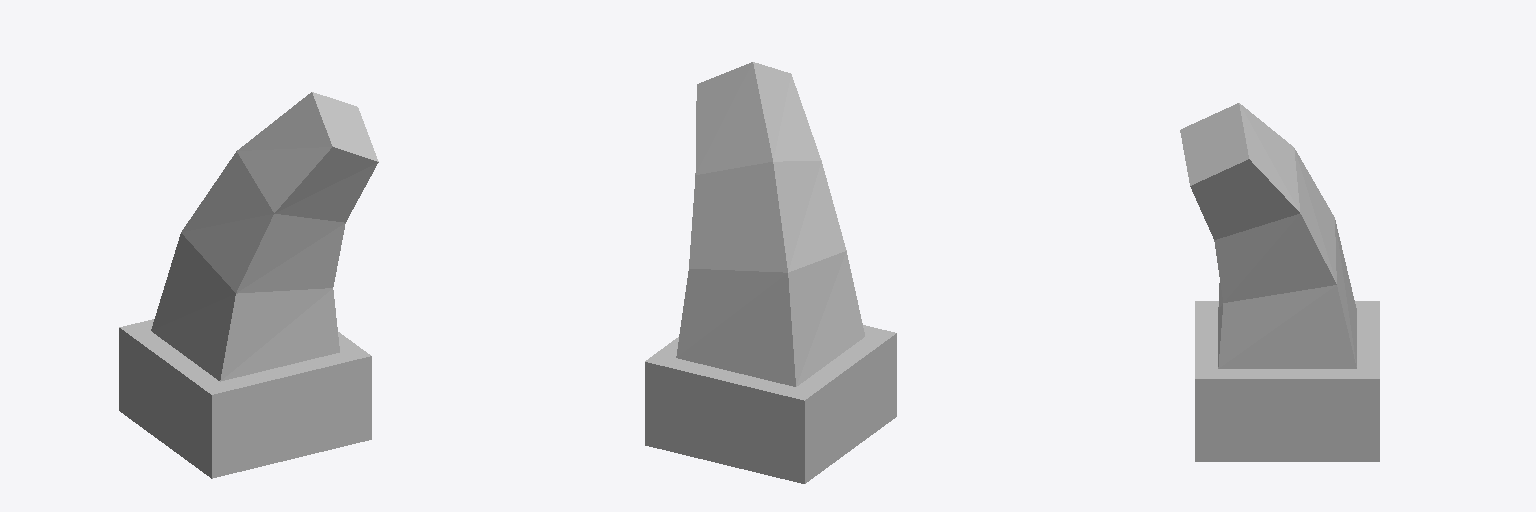
Rendered from pillar.obj.
The picture shows the model from 3 angles: view 1: azimuth 30°, elevation 25°; view 2: azimuth 150°, elevation 25°; view 3: azimuth 270°, elevation 25°; orthographic projection.
Parts seen in each view (by area): view 1: pillar; view 2: pillar; view 3: pillar.
Boxes of the visible parts, x1=… form: pillar: x1=119, y1=92, x2=378, y2=478; pillar: x1=645, y1=62, x2=896, y2=483; pillar: x1=1180, y1=103, x2=1379, y2=461.
Size of the model in its own units: 1.08 by 2.04 by 1.08.